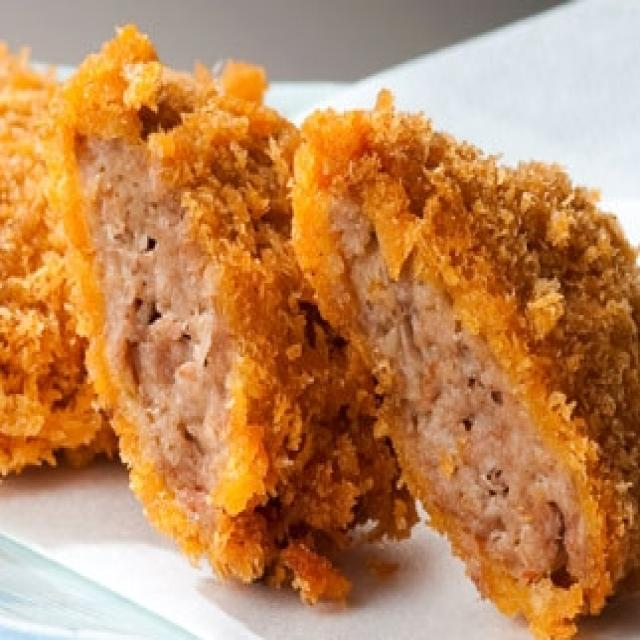炸货点心: (2, 12, 632, 630)
